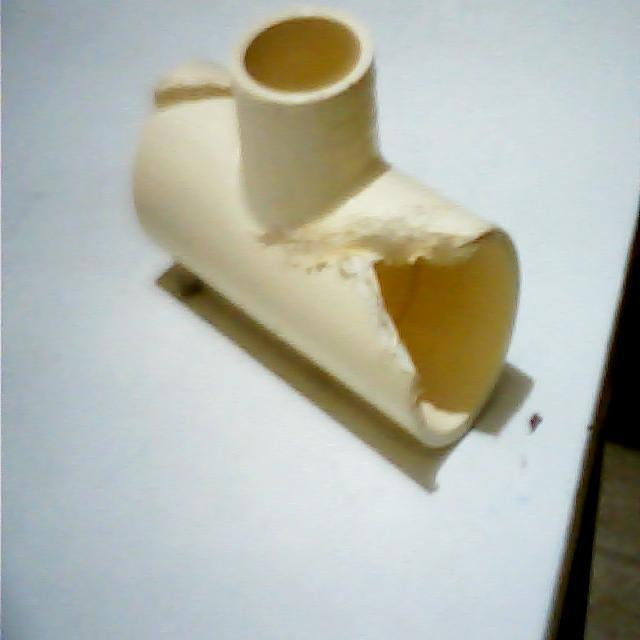Defective: (274, 208, 462, 388), (333, 227, 476, 351), (143, 69, 235, 126)
T Joint: (132, 19, 520, 458)
